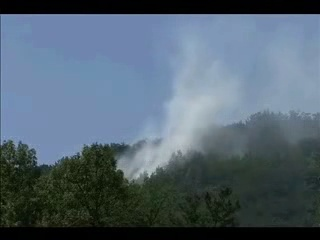smoke: (180, 14, 291, 160), (108, 99, 194, 184)
